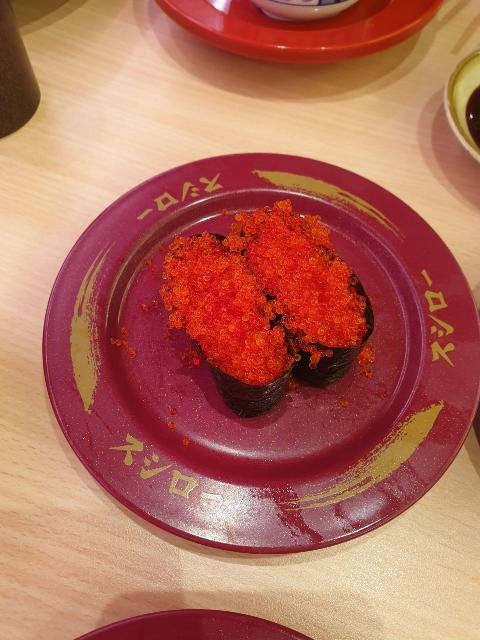janred: (68, 176, 480, 564), (115, 0, 433, 80), (138, 581, 344, 640)
